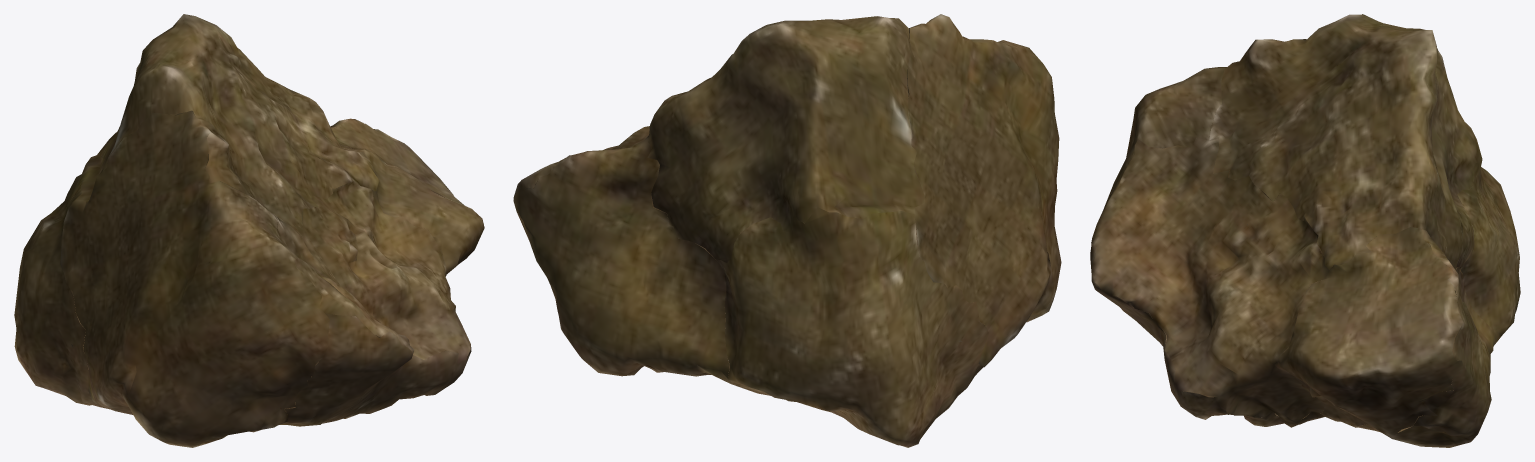
File: rock_moss_set_01_3.glb
3 views of the same model, side by side, from view 1: azimuth 30°, elevation 25°; view 2: azimuth 150°, elevation 25°; view 3: azimuth 270°, elevation 25° (orthographic). The views are drawn at different scales.
Visible parts, largest first — view 1: rock_moss_set_01_rock04; view 2: rock_moss_set_01_rock04; view 3: rock_moss_set_01_rock04.
Part boxes in pixels (x1,y1,x2,y2): rock_moss_set_01_rock04: [14, 14, 484, 447]; rock_moss_set_01_rock04: [513, 14, 1061, 447]; rock_moss_set_01_rock04: [1090, 14, 1520, 447].
Size of the model in its own units: 2.13 by 1.77 by 1.96.
1 material, 1 textured.
